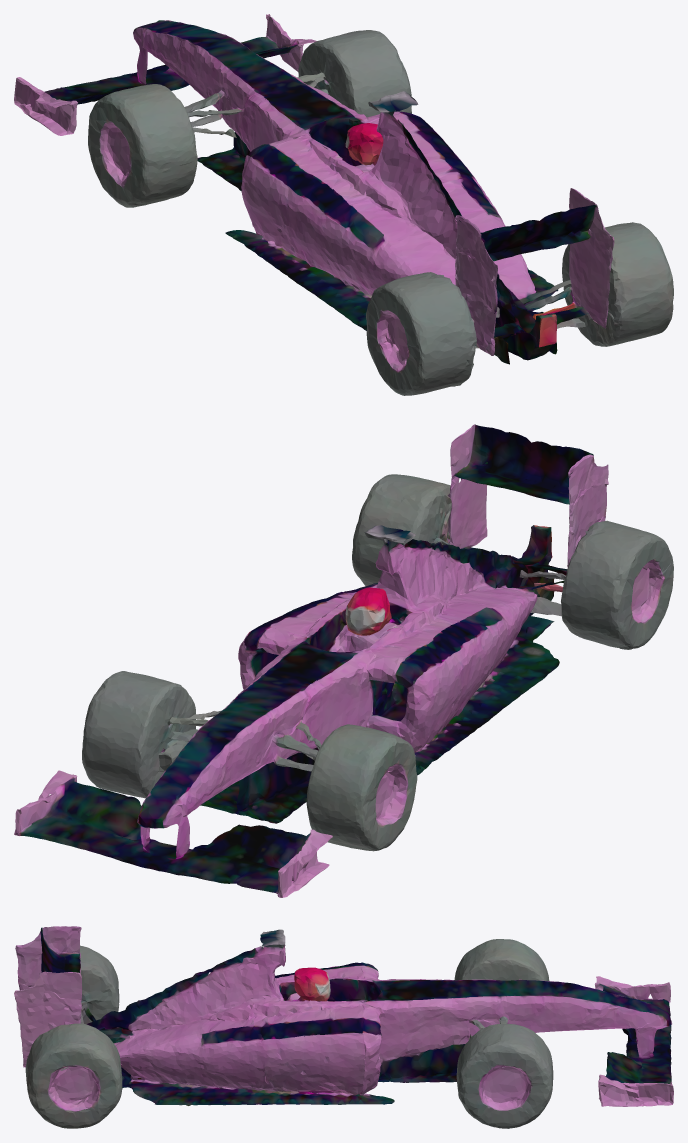
The picture shows the model from 3 angles, top to bottom: view 1: azimuth 30°, elevation 25°; view 2: azimuth 150°, elevation 25°; view 3: azimuth 270°, elevation 25°; orthographic projection. The views are drawn at different scales.
Parts seen in each view (by area): view 1: defaultobject; view 2: defaultobject; view 3: defaultobject.
Boxes of the visible parts, bbox=[...] form: defaultobject: bbox=[14, 14, 673, 395]; defaultobject: bbox=[14, 424, 673, 897]; defaultobject: bbox=[14, 926, 673, 1128].
Size of the model in its own units: 0.3703 by 0.2209 by 0.933.
